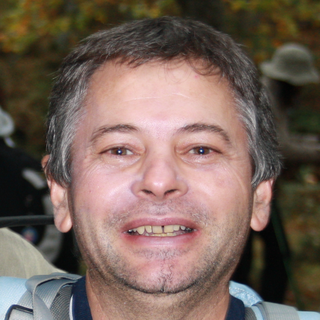eye: (95, 142, 146, 165), (176, 139, 223, 163)
